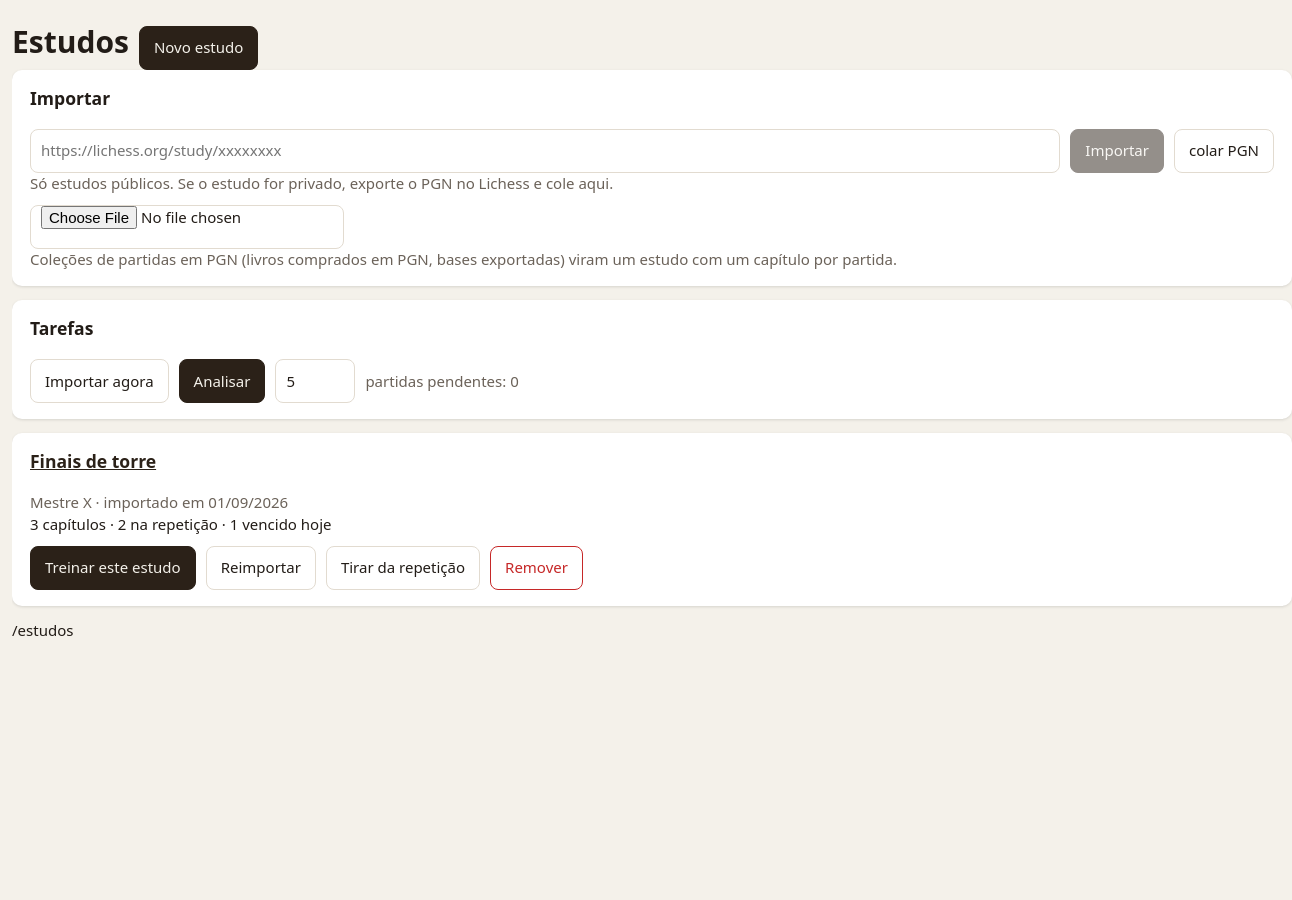
Test: treinar este estudo abre Treinar com o estudo escolhido
Expected: the link "Finais de torre" is shown, left=30, top=449, right=156, bottom=473
Click the button "Treinar este estudo": (113, 568) left=30, top=546, right=196, bottom=590
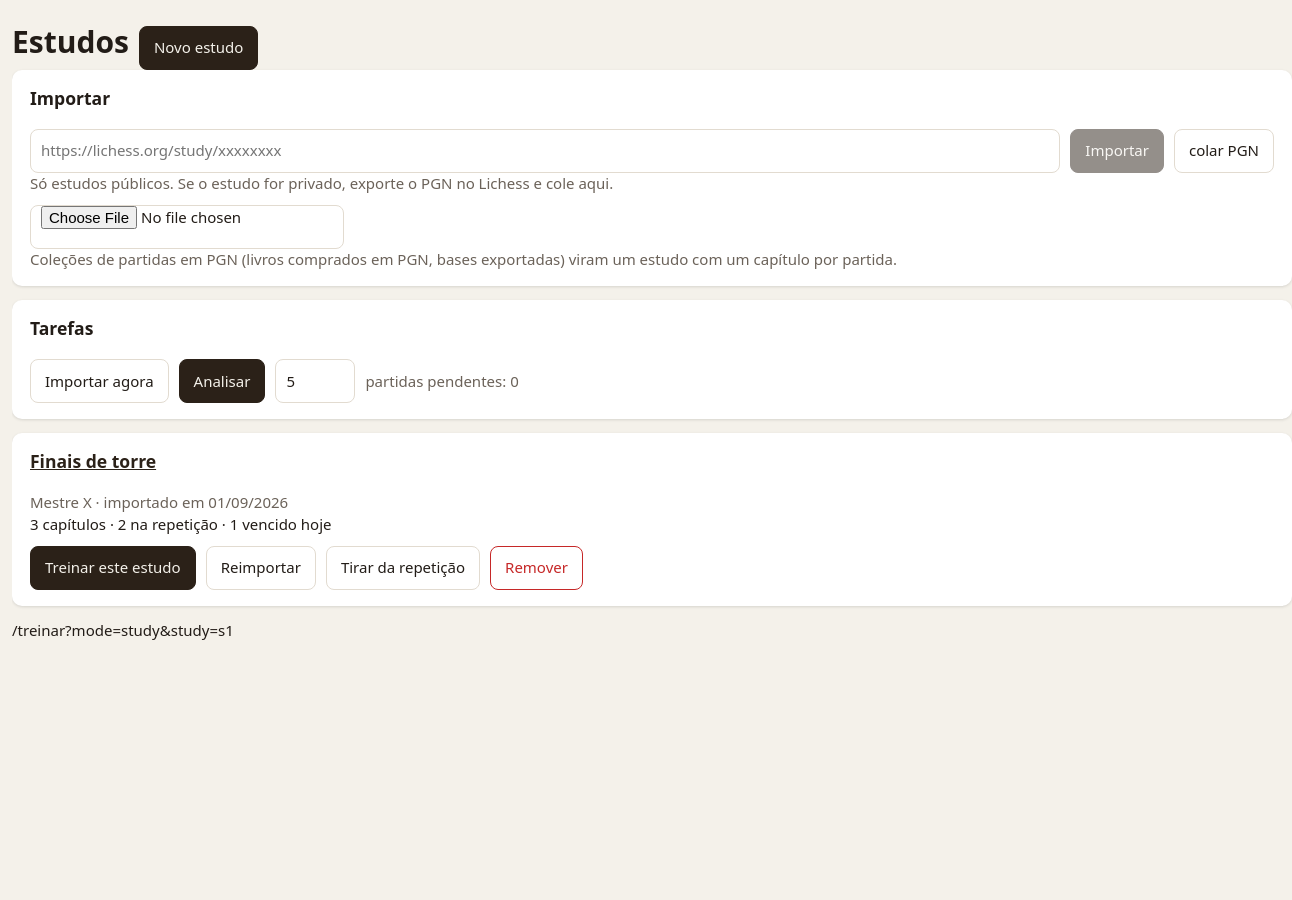
Expected: the text with test id "where" reads "/treinar?mode=study&study=s1", left=12, top=620, right=234, bottom=640
